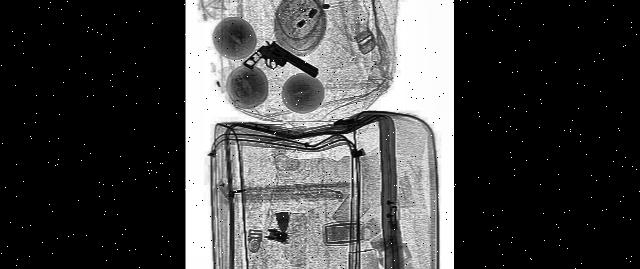Gun: (243, 14, 320, 119)
